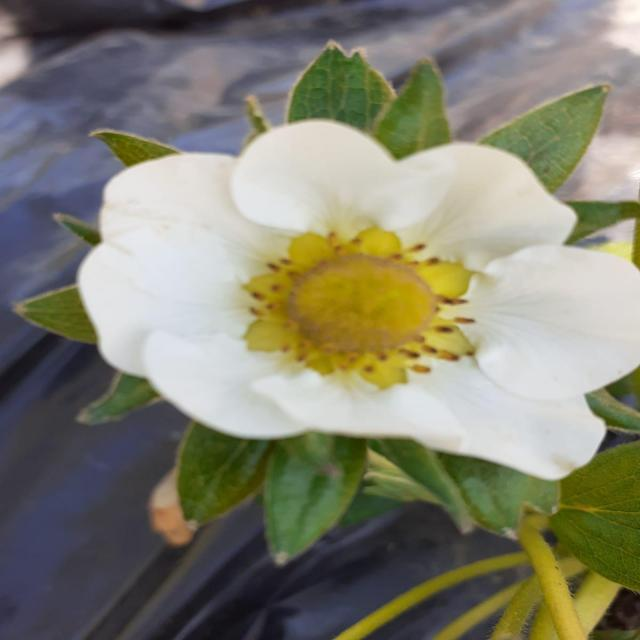flower: (82, 112, 640, 466)
